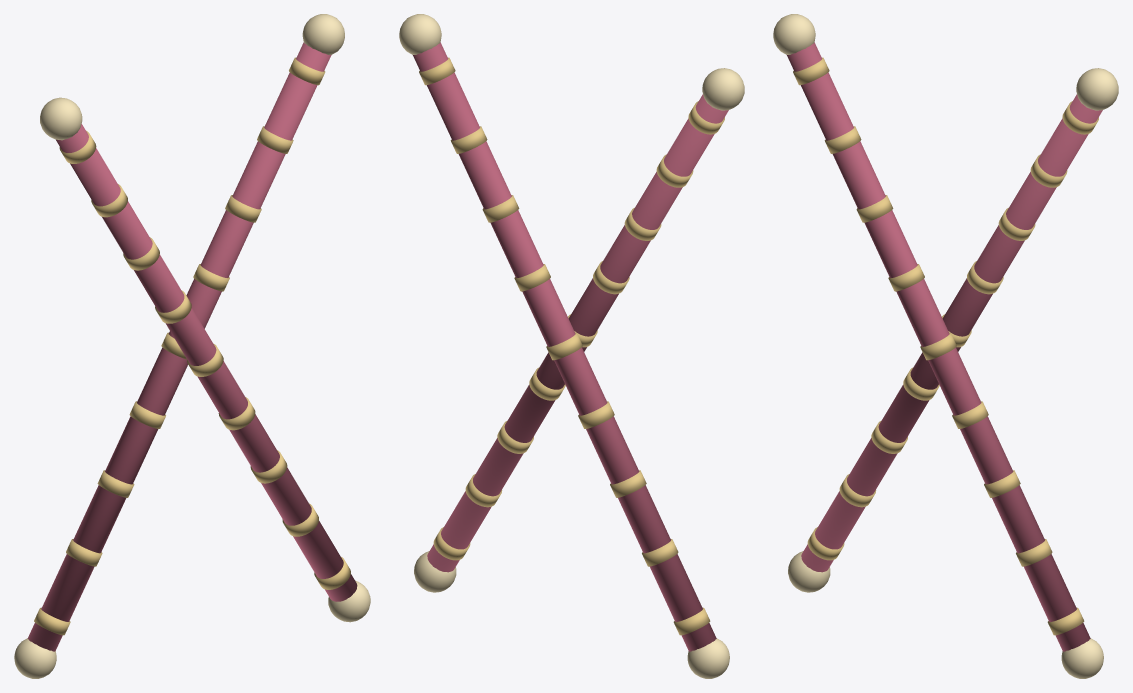
File: dandiya-pair.glb
3 views of the same model, side by side, from view 1: azimuth 30°, elevation 25°; view 2: azimuth 150°, elevation 25°; view 3: azimuth 330°, elevation 25° (orthographic).
Visible parts, largest first — view 1: wood-0, bands-1, finials-2; view 2: wood-0, bands-1, finials-2; view 3: wood-0, bands-1, finials-2.
Part boxes in pixels (left/top/right/bottom): wood-0: left=27, top=42, right=357, bottom=651; bands-1: left=34, top=57, right=350, bottom=635; finials-2: left=14, top=14, right=370, bottom=678; wood-0: left=413, top=42, right=728, bottom=651; bands-1: left=419, top=57, right=724, bottom=635; finials-2: left=399, top=14, right=744, bottom=678; wood-0: left=787, top=42, right=1102, bottom=651; bands-1: left=793, top=57, right=1098, bottom=635; finials-2: left=773, top=14, right=1118, bottom=678.
Size of the model in its own units: 0.9458 by 1.62 by 0.206.
